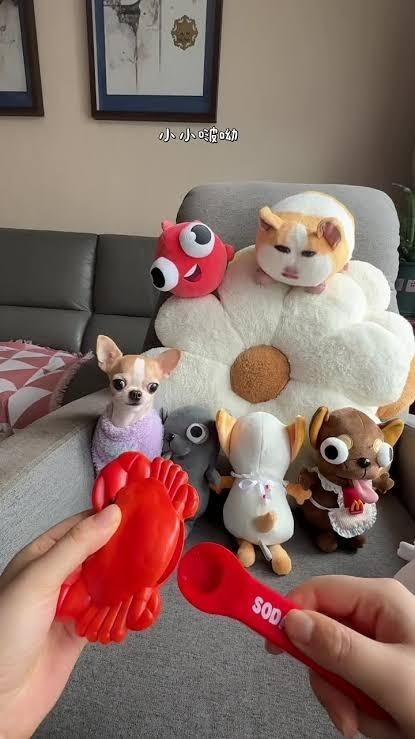non-dog: (171, 538, 382, 709), (53, 453, 208, 645), (286, 405, 405, 555), (210, 409, 308, 574), (158, 407, 221, 523)
puppy-dog: (92, 334, 183, 471)
